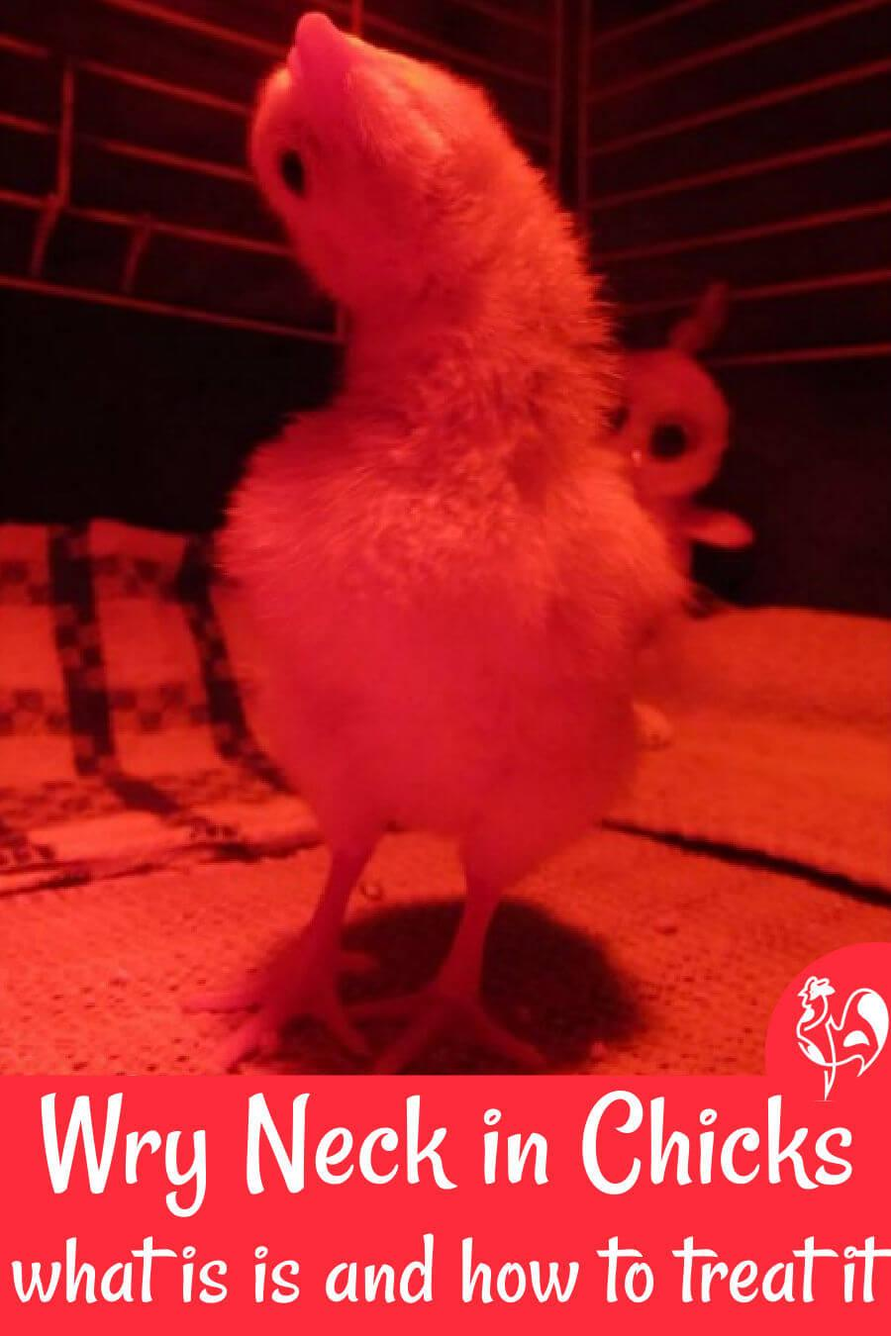AbNormal: (50, 5, 777, 1078)
